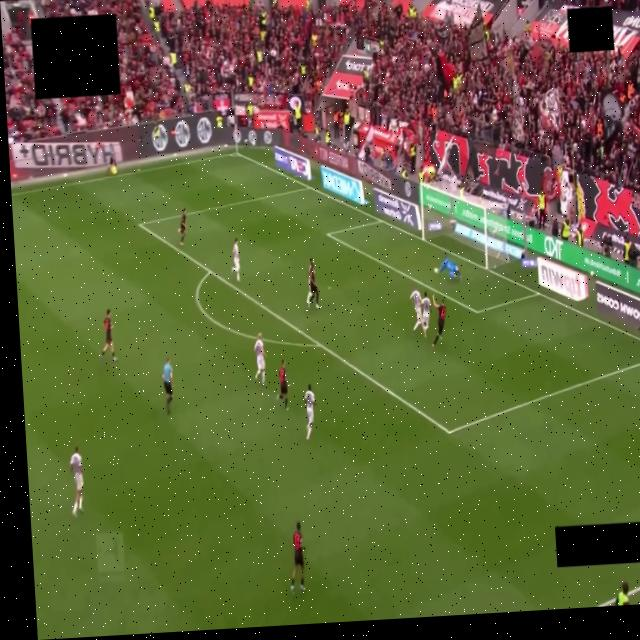player: (290, 522, 304, 594), (99, 309, 116, 362), (70, 447, 83, 516), (432, 296, 445, 347), (306, 259, 319, 309), (253, 334, 265, 385), (304, 384, 315, 439), (276, 361, 288, 410), (434, 258, 460, 280), (410, 289, 422, 331), (421, 292, 430, 336), (232, 238, 239, 281), (178, 208, 185, 245), (108, 154, 117, 175)
referee: (162, 358, 172, 414)
